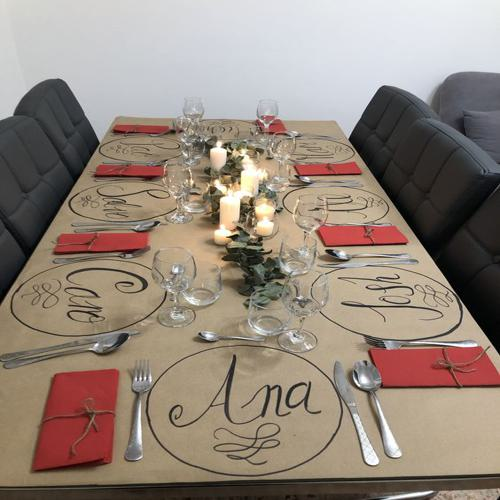copa: (280, 270, 328, 350), (153, 249, 197, 328), (279, 236, 318, 298), (163, 160, 196, 223), (294, 195, 327, 251), (271, 133, 295, 186), (259, 102, 277, 139), (186, 100, 206, 133)
vaso: (250, 289, 294, 340), (181, 264, 224, 308), (180, 180, 214, 216), (179, 134, 207, 160)
